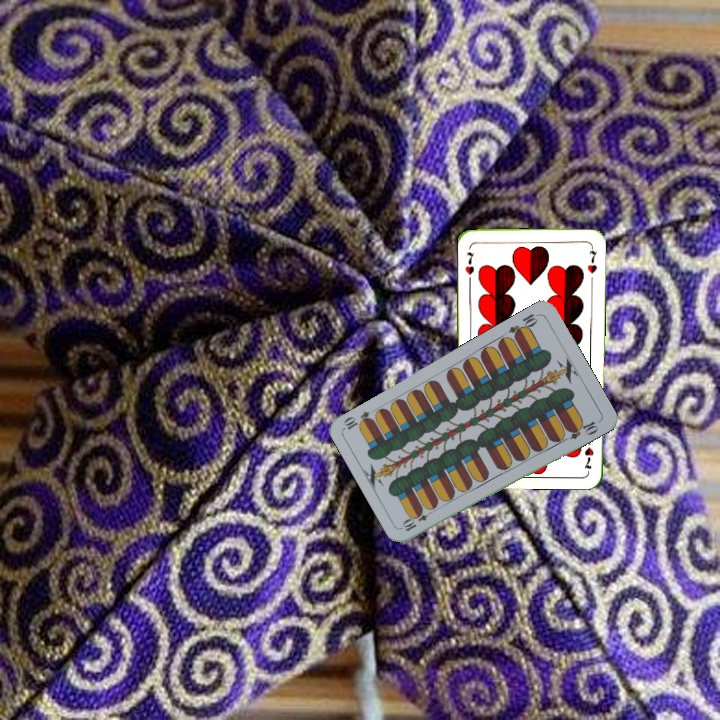E10: (505, 309, 542, 341), (399, 505, 437, 534)
H7: (580, 432, 596, 473), (461, 248, 476, 277)
